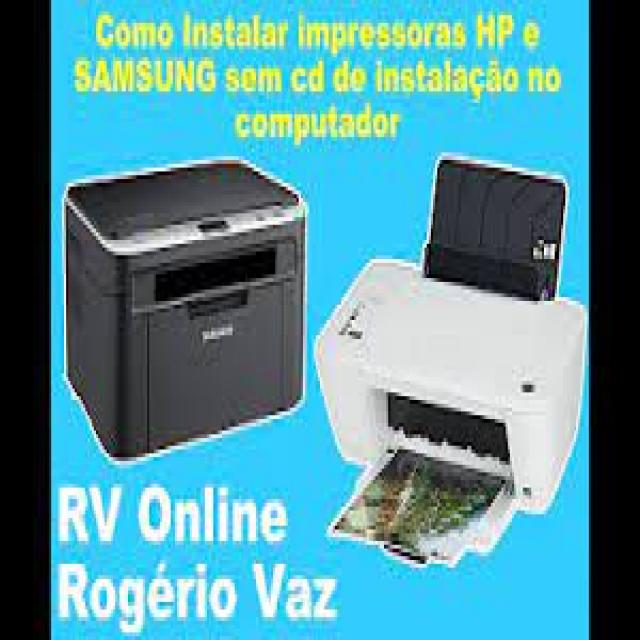printer: (313, 150, 587, 577), (63, 156, 309, 472)
